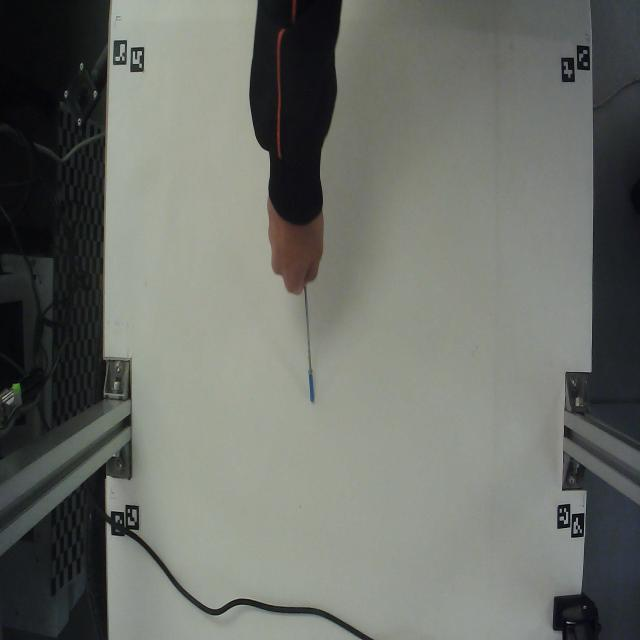Pres: (292, 267, 336, 436)
